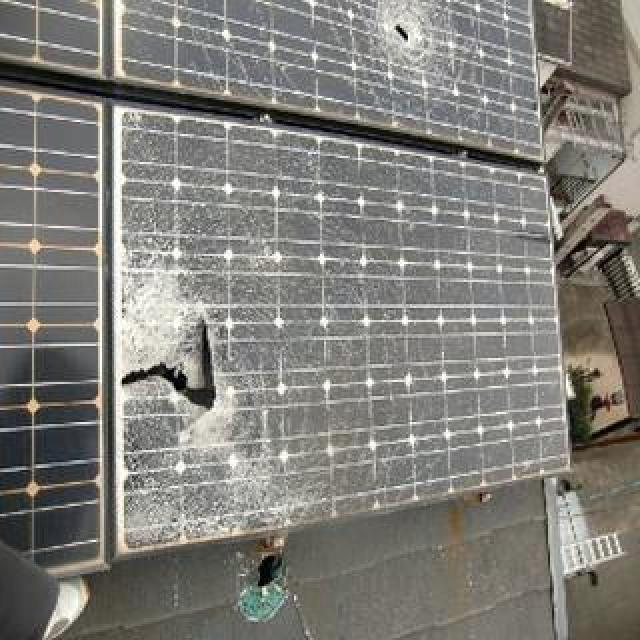cracked: (114, 108, 578, 552), (126, 2, 560, 150)
